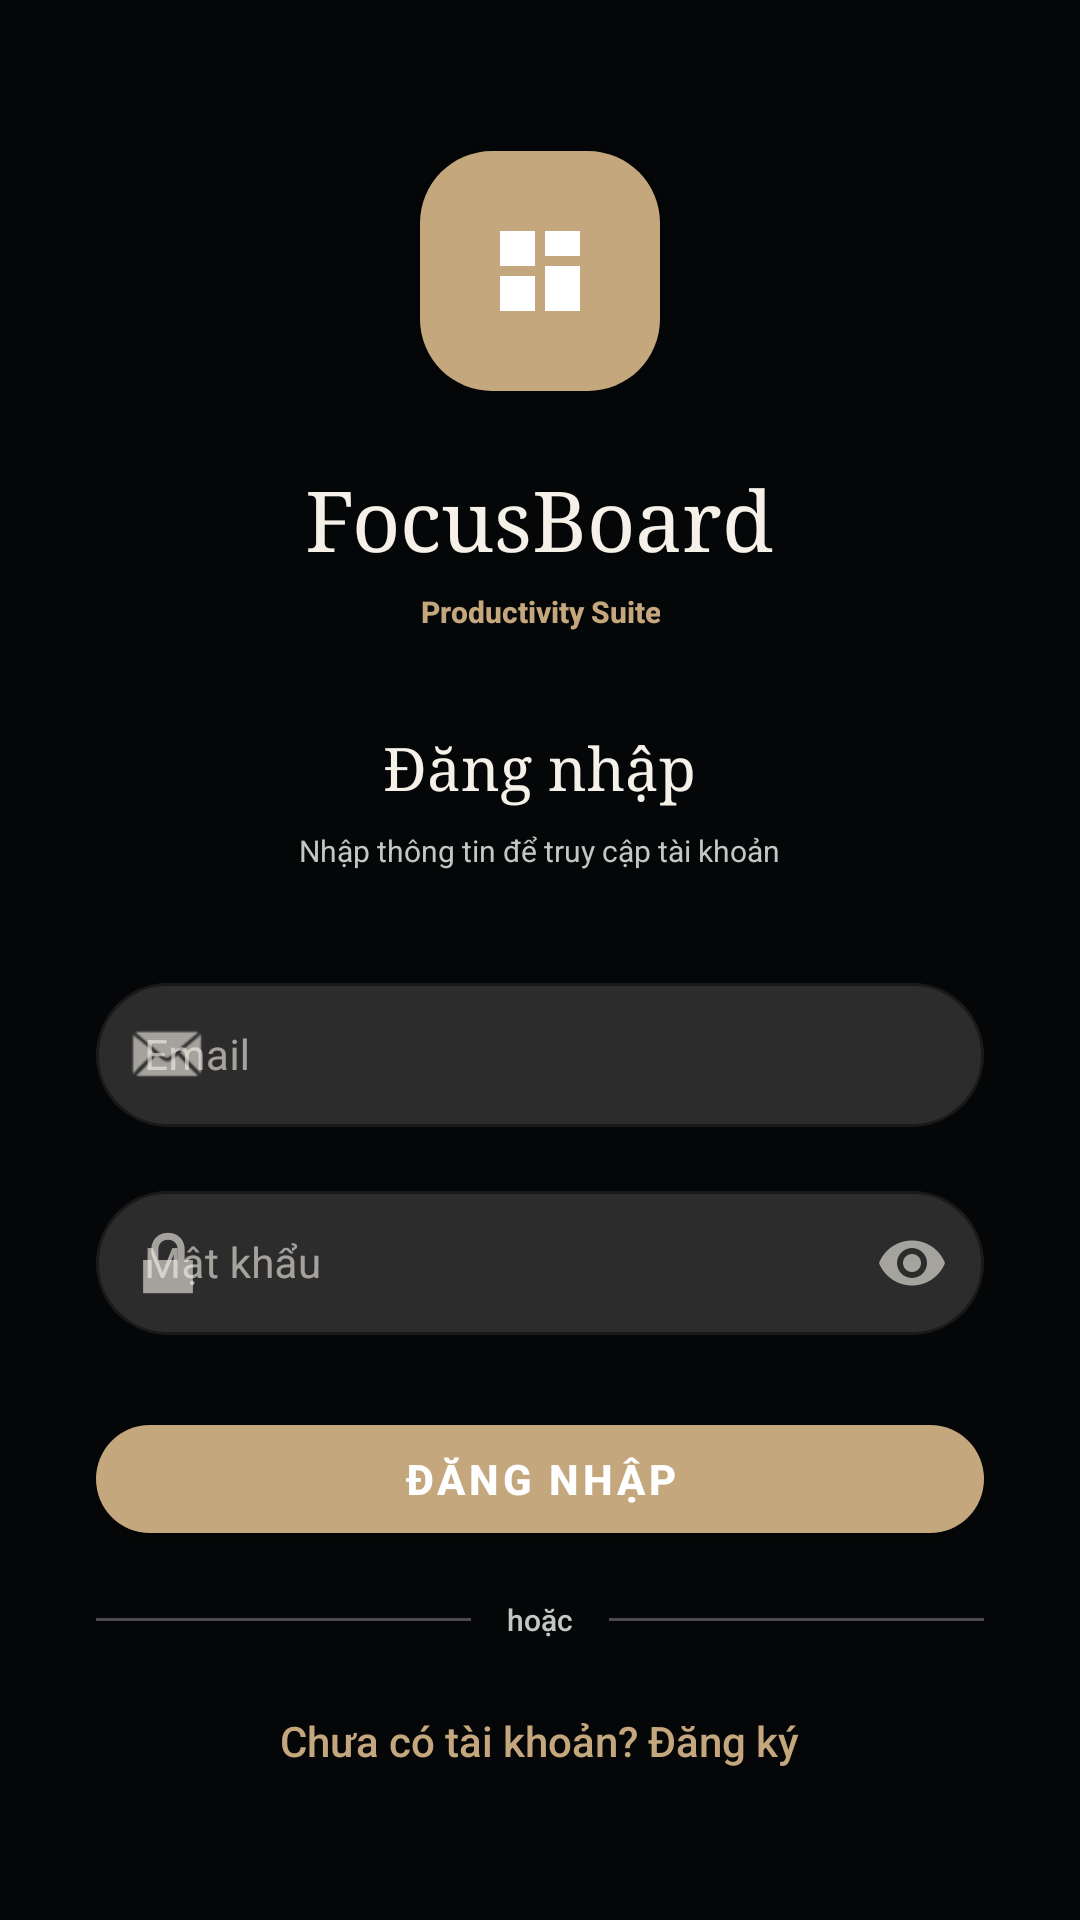

Where to tap for icons on this 1080 x 1920 app screen, as [x,y]:
workspace: [540,271]
